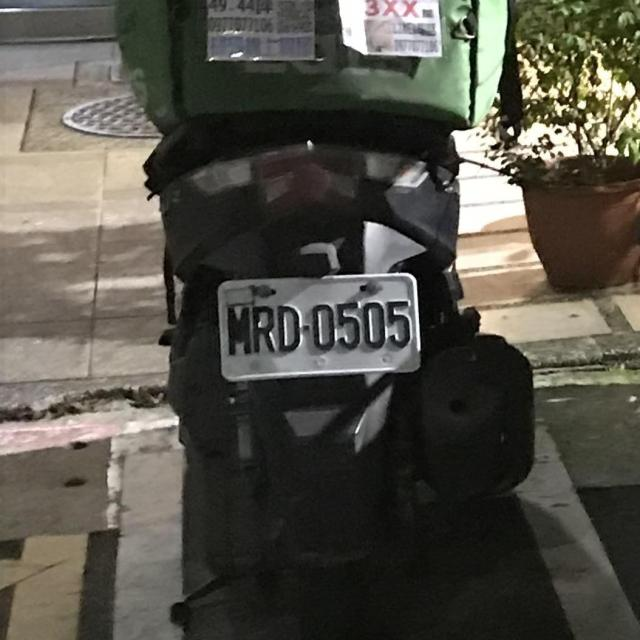W: (211, 260, 431, 393)
